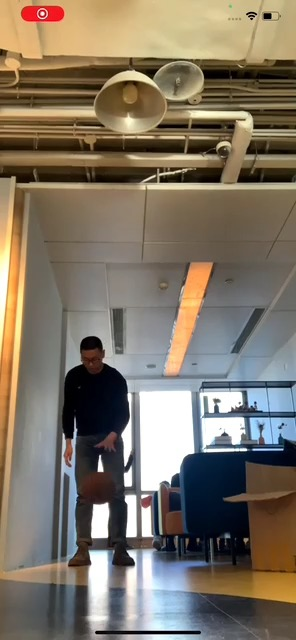ball: (79, 469, 117, 505)
